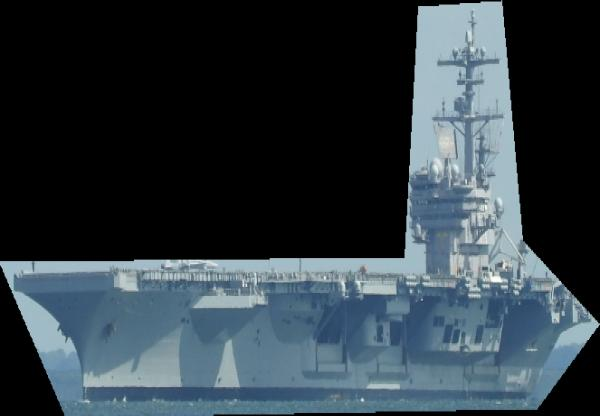Aircraft Carrier: (0, 1, 600, 416)
